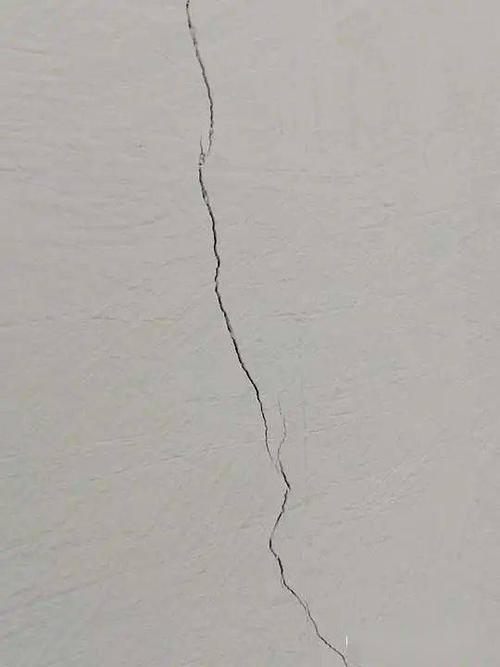Crack: (182, 1, 349, 667)
